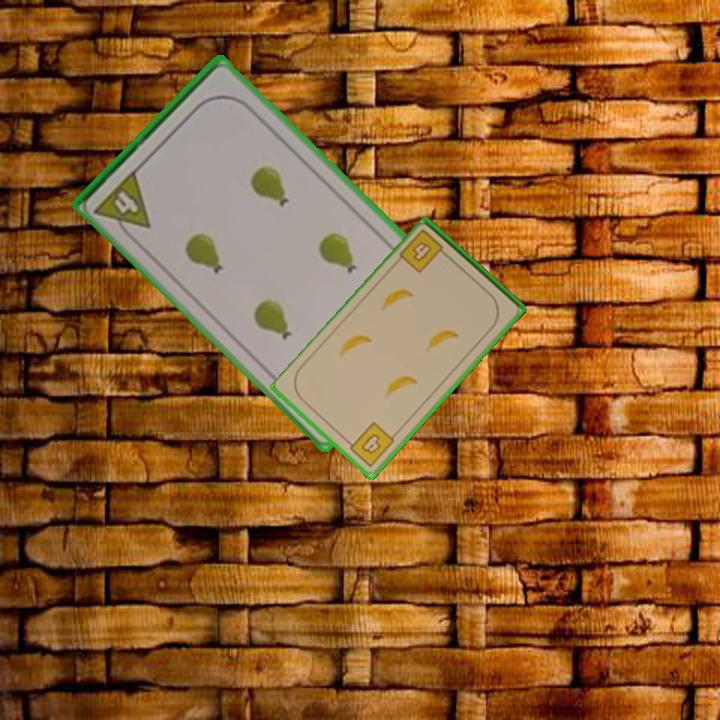4b: (342, 418, 398, 470), (396, 226, 452, 276)
4p: (91, 165, 154, 244)
